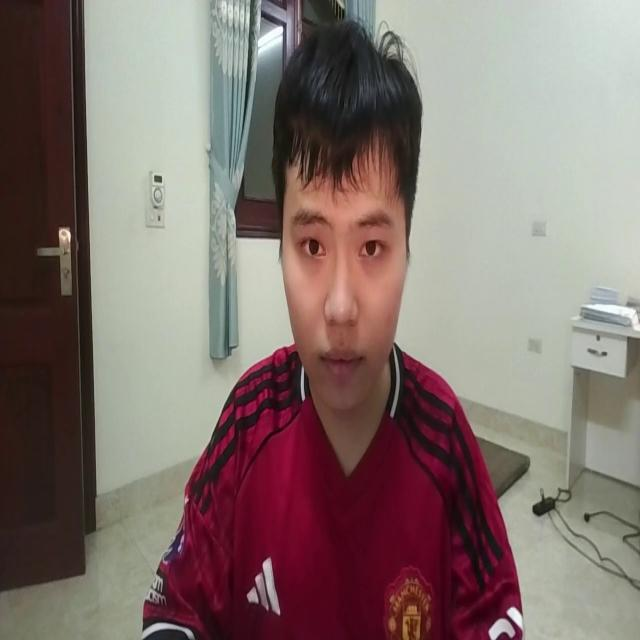student: (136, 19, 522, 640)
